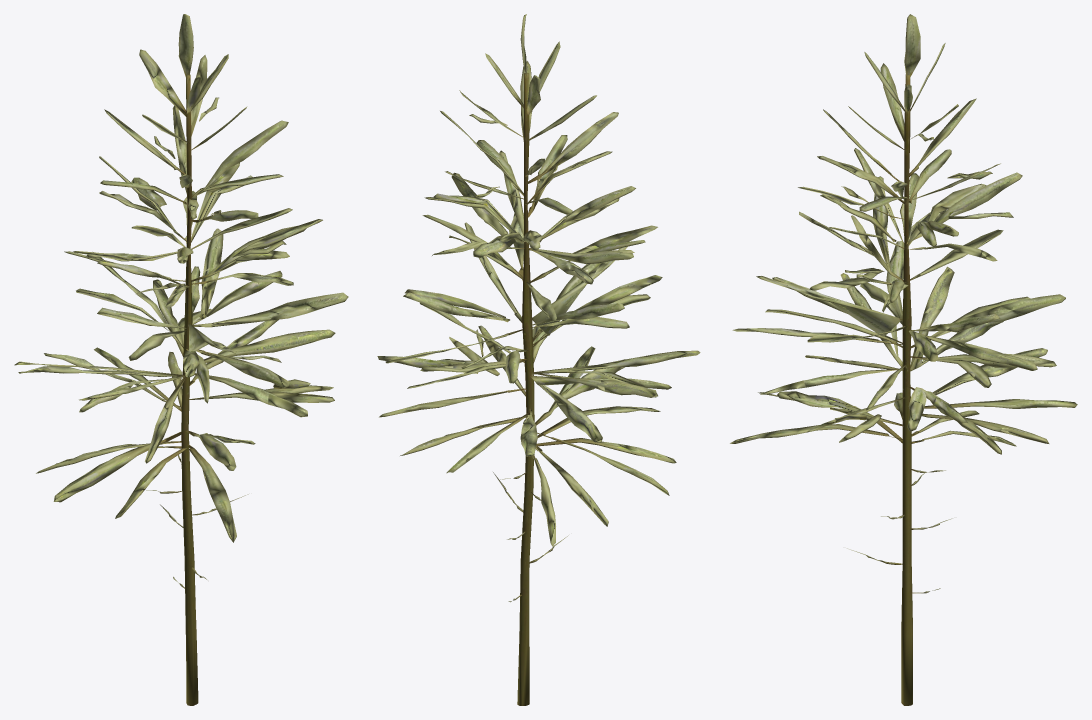
File: original_glb.glb
3 views of the same model, side by side, from view 1: azimuth 30°, elevation 25°; view 2: azimuth 150°, elevation 25°; view 3: azimuth 270°, elevation 25° (orthographic).
Visible parts, largest first — view 1: pine sapling; view 2: pine sapling; view 3: pine sapling.
Part boxes in pixels (x1,y1,x2,y2): pine sapling: (14, 14, 348, 705); pine sapling: (377, 14, 700, 705); pine sapling: (730, 14, 1077, 705).
Bounding box in the file's own units: 0.4238 × 0.998 × 0.459.
Materials: 1 (1 with a texture image).
